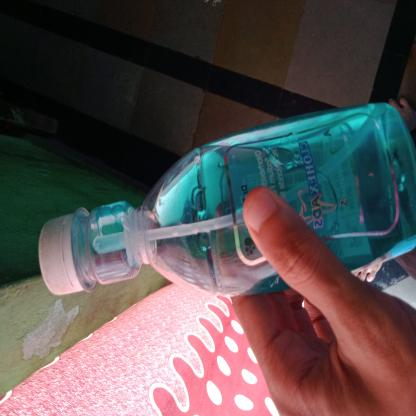bottle: (74, 1, 226, 368)
